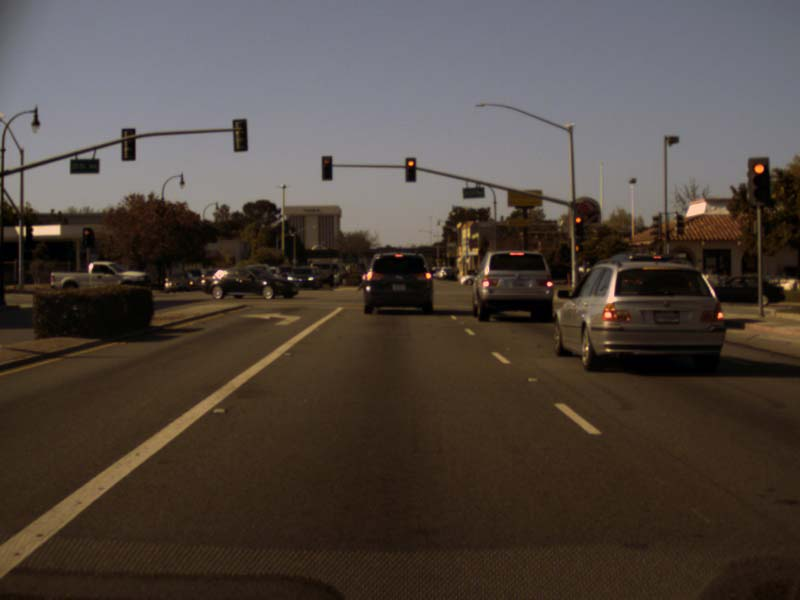Red: (749, 157, 770, 205), (405, 157, 417, 182), (573, 215, 585, 239), (321, 156, 333, 180), (83, 227, 92, 245)
